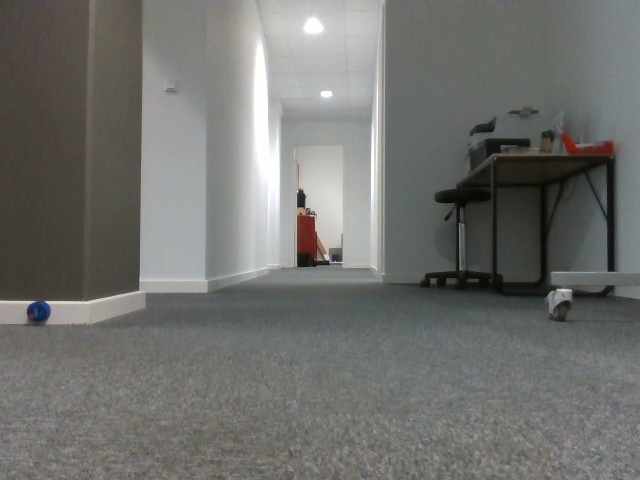alfa: (25, 299, 52, 327)
